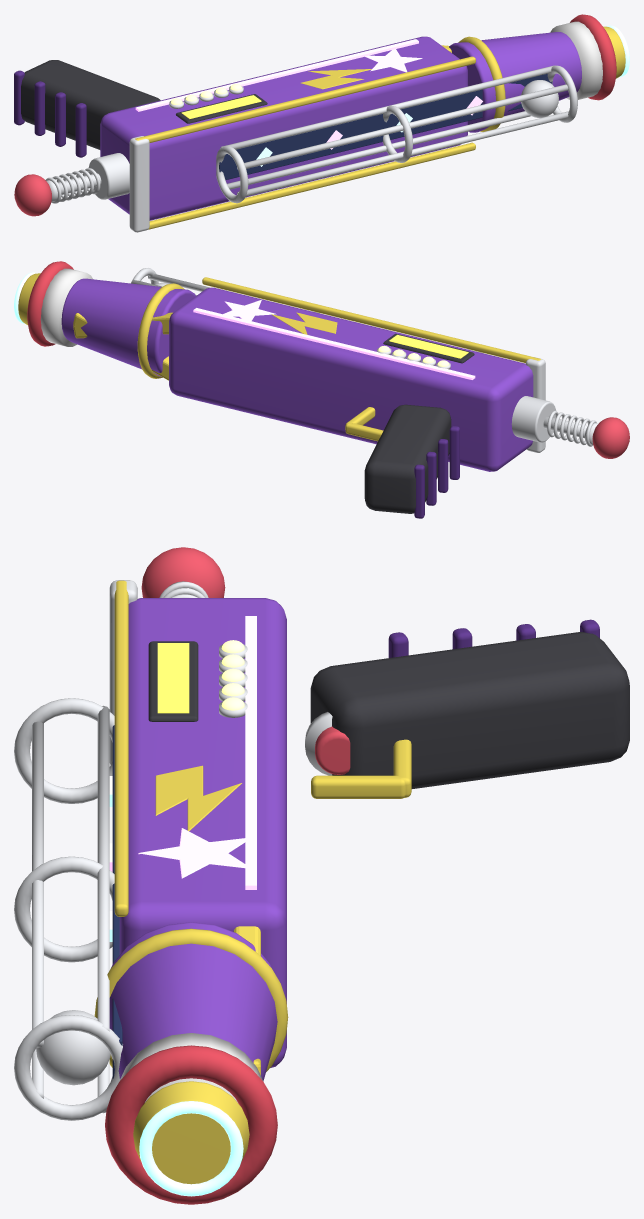
The model's file is pinball_launcher.glb.
The picture shows the model from 3 angles, top to bottom: view 1: azimuth 30°, elevation 25°; view 2: azimuth 150°, elevation 25°; view 3: azimuth 270°, elevation 25°; orthographic projection. The views are drawn at different scales.
Parts seen in each view (by area): view 1: Cabinet, Lane Floor, Grip, Nose, Rail +2, Rail -2, Lane Wire 2, Lane Wire 3, Lane Wire 0, Lane Wire 1, Lockdown Bar, Bumper Skirt (+19 smaller); view 2: Cabinet, Nose, Grip, Rail +2, Bumper Skirt, Neon Strip +2, Plunger Housing, Bumper Rubber, Plunger Knob, Nose Band, Lockdown Bar, Side Bolt (+10 smaller); view 3: Cabinet, Grip, Nose, Bumper Rubber, Bumper Cap, Rail +2, Lane Clamp 20, Lane Wire 0, Nose Band, Muzzle Glow, Lane Wire 2, Loaded Ball (+13 smaller).
Boxes of the visible parts, <box> form: Cabinet: <box>100,36,467,220</box>; Lane Floor: <box>219,73,552,179</box>; Grip: <box>21,60,160,149</box>; Nose: <box>449,32,581,132</box>; Rail +2: <box>135,56,475,142</box>; Rail -2: <box>148,142,475,229</box>; Lane Wire 2: <box>237,84,568,169</box>; Lane Wire 3: <box>237,111,568,196</box>; Lane Wire 0: <box>220,65,554,149</box>; Lane Wire 1: <box>227,111,530,189</box>; Lockdown Bar: <box>129,136,149,232</box>; Bumper Skirt: <box>550,21,602,99</box>; Cabinet: <box>169,287,533,471</box>; Nose: <box>61,278,195,377</box>; Grip: <box>364,404,451,513</box>; Rail +2: <box>202,277,540,362</box>; Bumper Skirt: <box>40,268,92,346</box>; Neon Strip +2: <box>193,308,475,379</box>; Plunger Housing: <box>511,396,556,442</box>; Bumper Rubber: <box>27,261,73,346</box>; Plunger Knob: <box>592,417,629,458</box>; Nose Band: <box>137,283,184,378</box>; Lockdown Bar: <box>525,357,545,452</box>; Side Bolt: <box>271,312,337,334</box>; Cabinet: <box>119,598,286,1067</box>; Grip: <box>310,632,629,788</box>; Nose: <box>109,922,277,1080</box>; Bumper Rubber: <box>105,1045,277,1204</box>; Bumper Cap: <box>133,1081,249,1184</box>; Rail +2: <box>114,580,128,916</box>; Lane Clamp 20: <box>14,1015,122,1120</box>; Lane Wire 0: <box>97,705,109,1031</box>; Nose Band: <box>94,928,288,1071</box>; Muzzle Glow: <box>139,1101,243,1196</box>; Lane Wire 2: <box>32,721,43,1047</box>; Loaded Ball: <box>36,1010,110,1085</box>.
Bounding box in the file's own units: 34.34 × 5.18 × 15.45.
